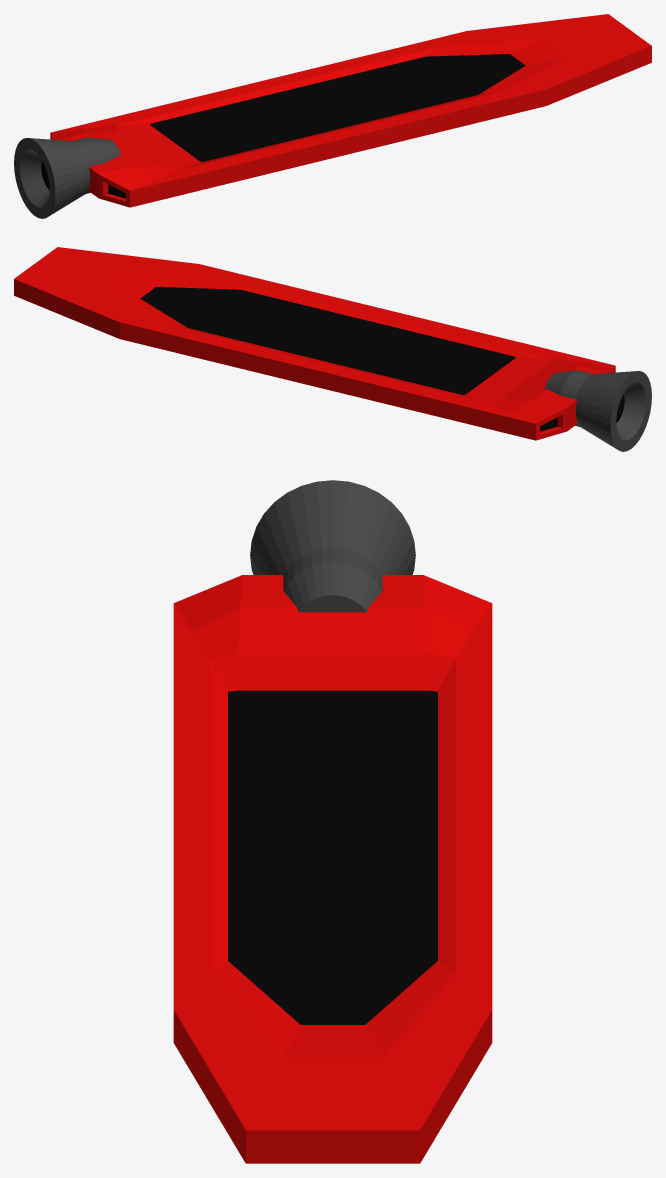
The model's file is Hoverboard11.fbx.
3 views of the same model, one above another, from view 1: azimuth 30°, elevation 25°; view 2: azimuth 150°, elevation 25°; view 3: azimuth 270°, elevation 25° (orthographic). The views are drawn at different scales.
Parts seen in each view (by area): view 1: Hoverboard 11; view 2: Hoverboard 11; view 3: Hoverboard 11.
Part boxes in pixels (<box>): Hoverboard 11: <box>14,14,651,218</box>; Hoverboard 11: <box>14,247,651,451</box>; Hoverboard 11: <box>173,480,492,1163</box>.
Size of what is drawn, in the model's own units: 864 by 104 by 200.
